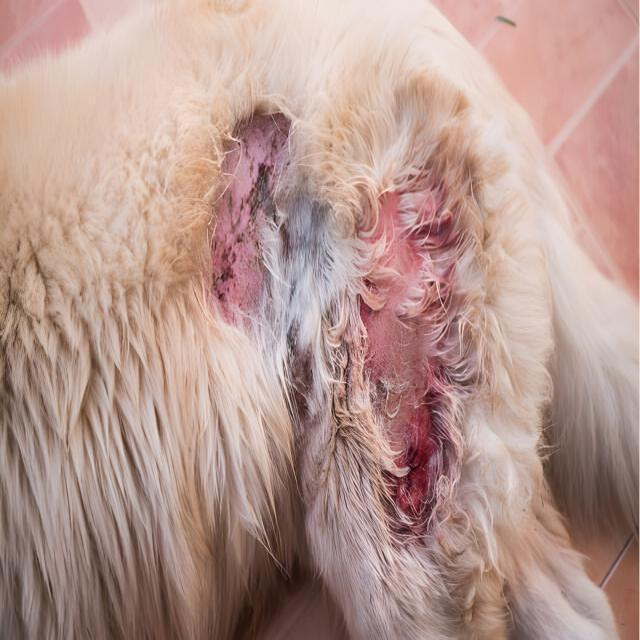allergic dermatitis: (332, 170, 474, 548), (202, 106, 300, 339)
